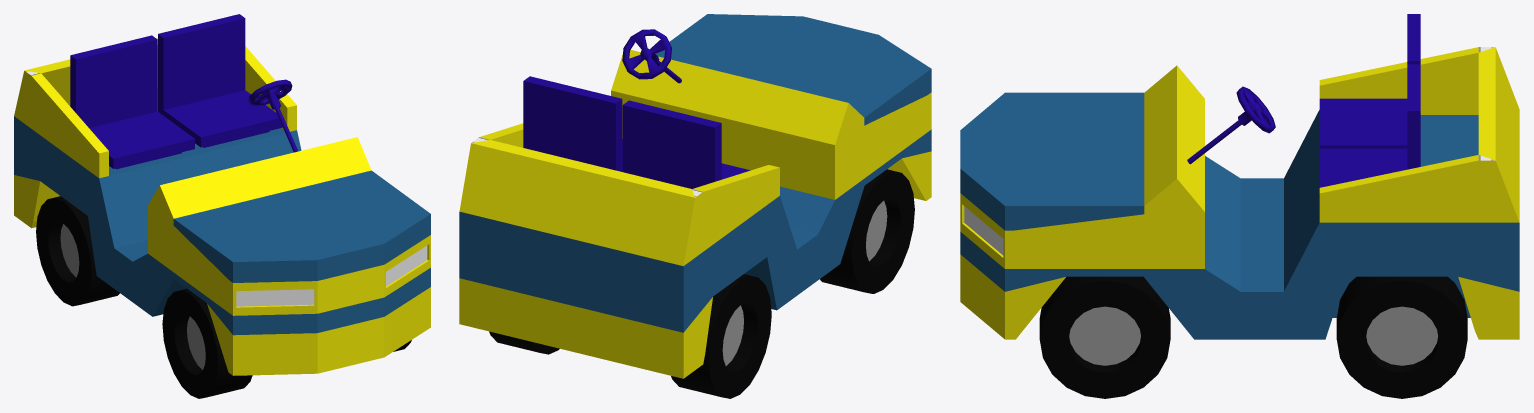
File: LuggerMainChassis.fbx
The picture shows the model from 3 angles, left to right: view 1: azimuth 30°, elevation 25°; view 2: azimuth 150°, elevation 25°; view 3: azimuth 270°, elevation 25°; orthographic projection. The views are drawn at different scales.
Visible parts, largest first — view 1: LuggerMainChassis, Hood, EngineBay, DriverSeat, PassengerSeat, FrontBumper, BackBrace, FrontRightWheel, RearRightWheel, FrontGrill, BackBumper, RightHeadlight (+2 smaller); view 2: LuggerMainChassis, BackBrace, EngineBay, Hood, BackBumper, PassengerSeat, DriverSeat, RearRightWheel, FrontRightWheel, SteeringWheel, FrontBumper, RearLeftWheel; view 3: LuggerMainChassis, Hood, BackBrace, EngineBay, RearLeftWheel, FrontLeftWheel, PassengerSeat, DriverSeat, FrontBumper, BackBumper, FrontGrill, SteeringWheel (+1 smaller).
Part boxes in pixels (left/top/right/bottom): LuggerMainChassis: left=14, top=88, right=430, bottom=335; Hood: left=173, top=170, right=430, bottom=282; EngineBay: left=148, top=137, right=371, bottom=312; DriverSeat: left=158, top=14, right=282, bottom=147; PassengerSeat: left=70, top=35, right=194, bottom=169; FrontBumper: left=207, top=287, right=430, bottom=375; BackBrace: left=14, top=38, right=296, bottom=178; FrontRightWheel: left=162, top=288, right=252, bottom=398; RearRightWheel: left=36, top=196, right=119, bottom=306; FrontGrill: left=229, top=235, right=430, bottom=315; BackBumper: left=14, top=175, right=59, bottom=228; RightHeadlight: left=236, top=289, right=314, bottom=306; LuggerMainChassis: left=459, top=129, right=931, bottom=332; BackBrace: left=459, top=123, right=779, bottom=266; EngineBay: left=611, top=50, right=927, bottom=199; Hood: left=655, top=14, right=931, bottom=125; BackBumper: left=459, top=278, right=712, bottom=378; PassengerSeat: left=622, top=100, right=750, bottom=188; DriverSeat: left=523, top=76, right=622, bottom=171; RearRightWheel: left=671, top=274, right=771, bottom=398; FrontRightWheel: left=820, top=169, right=914, bottom=293; SteeringWheel: left=622, top=29, right=681, bottom=83; FrontBumper: left=887, top=151, right=931, bottom=200; RearLeftWheel: left=489, top=331, right=559, bottom=354; LuggerMainChassis: left=960, top=110, right=1519, bottom=339; Hood: left=960, top=92, right=1144, bottom=230; BackBrace: left=1319, top=47, right=1519, bottom=222; EngineBay: left=1013, top=65, right=1204, bottom=268; RearLeftWheel: left=1336, top=276, right=1467, bottom=398; FrontLeftWheel: left=1039, top=276, right=1170, bottom=398; PassengerSeat: left=1319, top=14, right=1420, bottom=148; DriverSeat: left=1319, top=64, right=1420, bottom=187; FrontBumper: left=960, top=254, right=1065, bottom=339; BackBumper: left=1458, top=277, right=1519, bottom=339; FrontGrill: left=960, top=193, right=1013, bottom=268; SteeringWheel: left=1187, top=86, right=1275, bottom=164.
Bounding box in the file's own units: 65.64 × 75.32 × 137.
